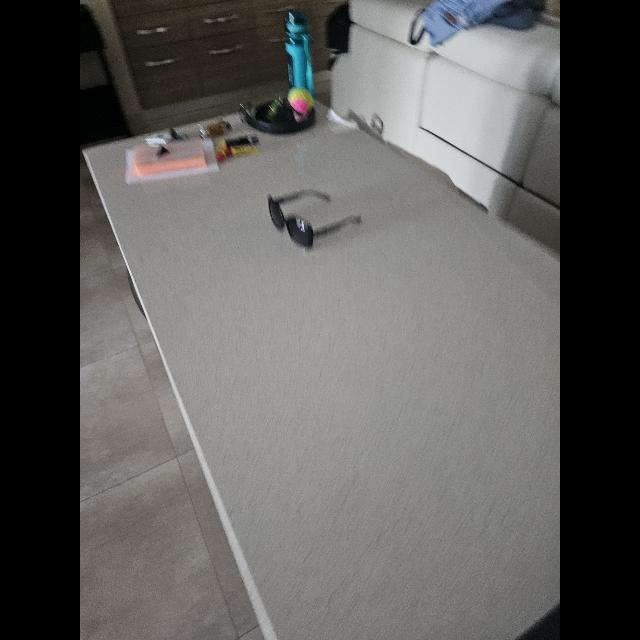Sunglasses: (268, 190, 362, 247)
